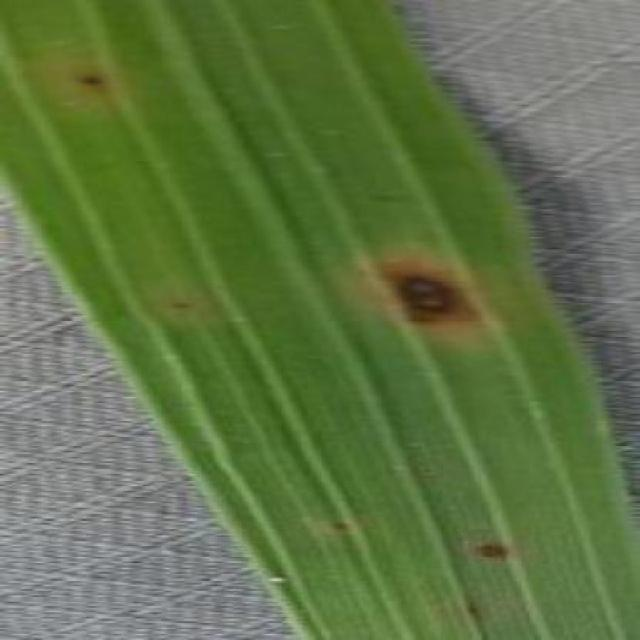Leaf_Blast: (347, 234, 502, 355), (454, 529, 518, 566), (390, 448, 448, 484), (62, 60, 118, 95), (354, 180, 414, 212), (256, 12, 301, 45), (454, 593, 494, 629), (158, 288, 204, 318), (318, 508, 360, 538), (126, 148, 162, 177)
